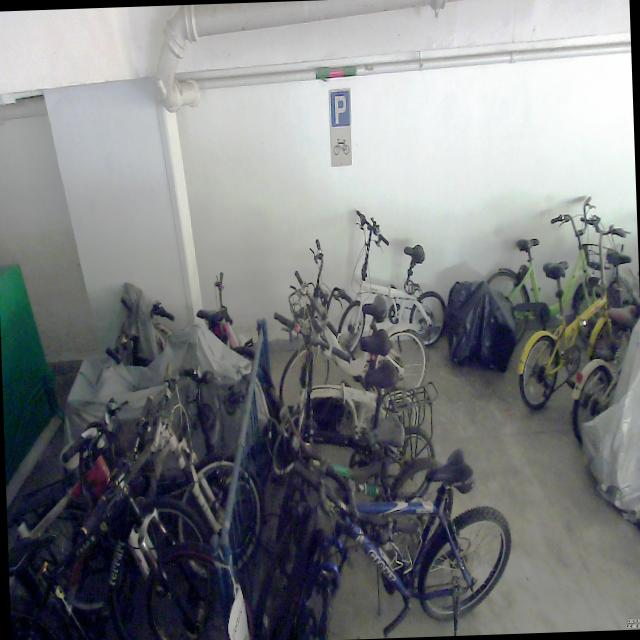bike: (28, 362, 263, 594), (3, 392, 219, 640), (246, 444, 513, 640), (270, 391, 457, 564), (274, 232, 428, 404), (267, 305, 421, 475), (512, 211, 640, 409), (480, 192, 620, 364), (333, 205, 448, 355)
